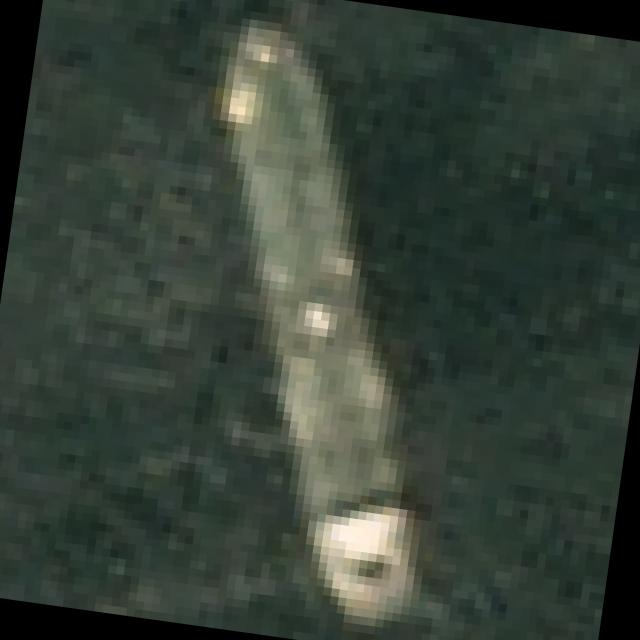ship: (93, 0, 553, 640)
